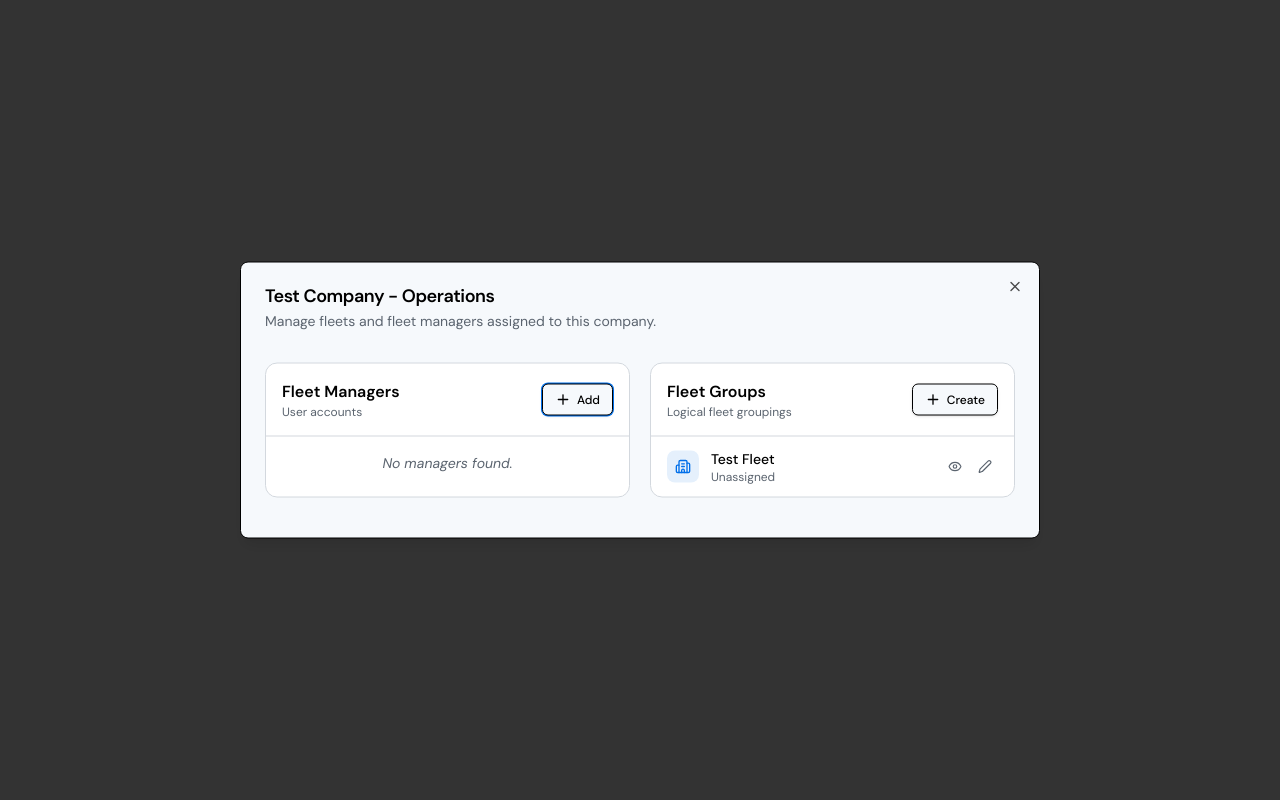
Test case: CompanyOperations Component › displays fleet details
Check: the text "Test Fleet" is shown, box [711,450,775,468]
Step 1. Click the button named "View details for Test Fleet" → [955, 466], box [942,454,968,480]
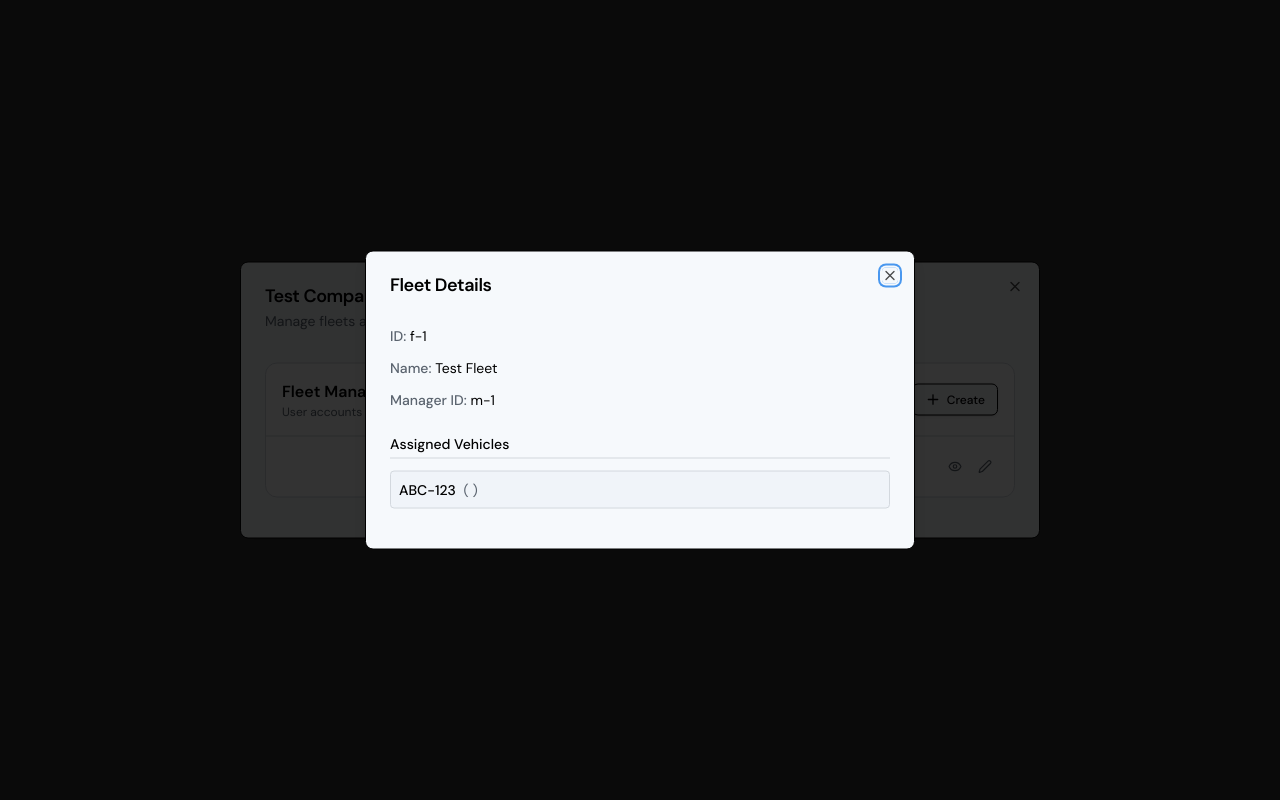
Check: the heading "Fleet Details" is shown, box [390,272,492,296]
Check: the text "ABC-123" is shown, box [399,480,456,498]
